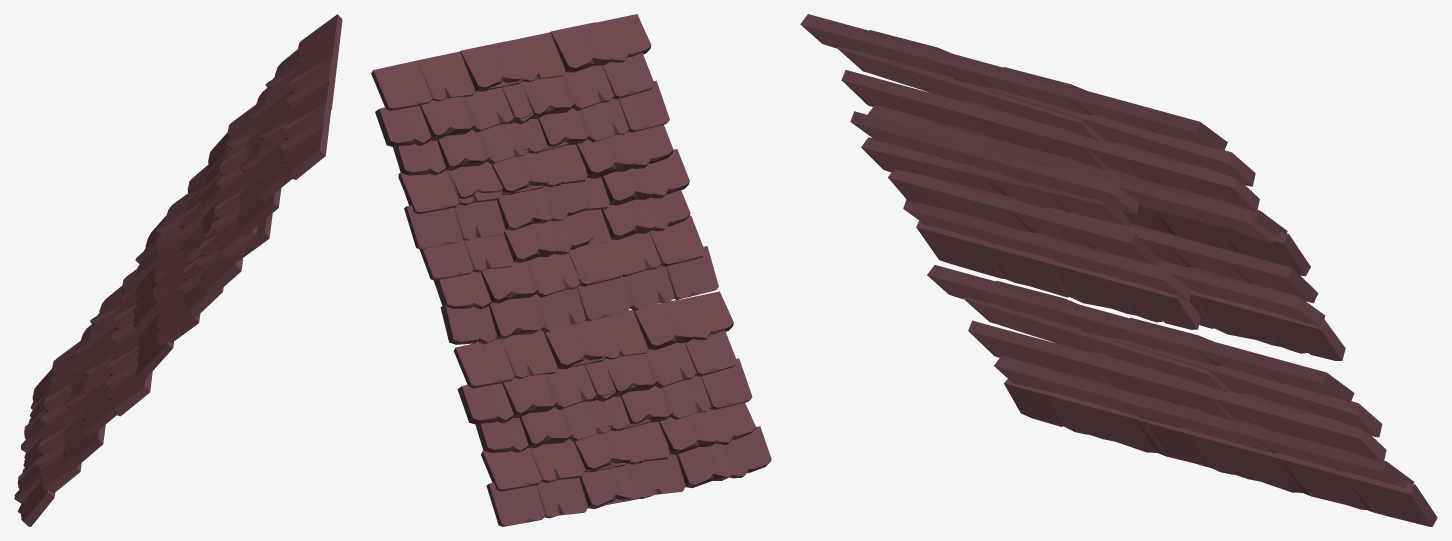
File: RedLeftTopRoof.fbx
3 renders of one model, left to right at view 1: azimuth 30°, elevation 25°; view 2: azimuth 150°, elevation 25°; view 3: azimuth 270°, elevation 25°, orthographic. The views are drawn at different scales.
Visible parts, largest first — view 1: RedLeftTopRoof_Merged; view 2: RedLeftTopRoof_Merged; view 3: RedLeftTopRoof_Merged.
Part boxes in pixels (bbox=[...]): RedLeftTopRoof_Merged: bbox=[14, 14, 342, 526]; RedLeftTopRoof_Merged: bbox=[371, 14, 771, 526]; RedLeftTopRoof_Merged: bbox=[800, 14, 1437, 526].
Bounding box in the file's own units: 562 × 553 × 564.
